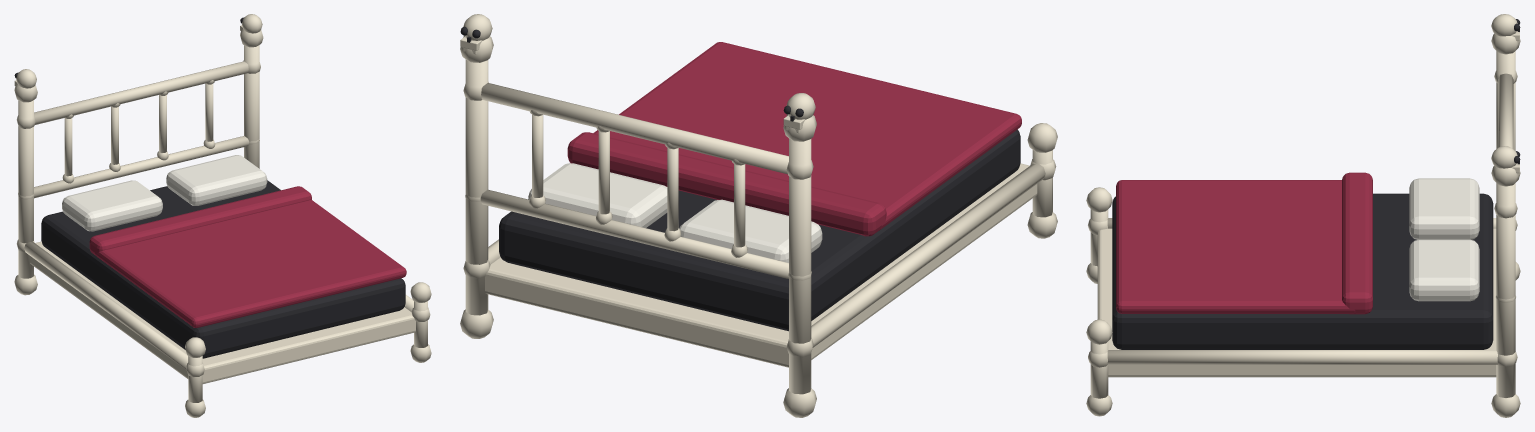
Rendered from bed_bone_frame.glb.
3 views of the same model, side by side, from view 1: azimuth 30°, elevation 25°; view 2: azimuth 150°, elevation 25°; view 3: azimuth 270°, elevation 25° (orthographic). The views are drawn at different scales.
Parts seen in each view (by area): view 1: GD_bed_bone_frame__m0, GD_bed_bone_frame__m3, GD_bed_bone_frame__m1, GD_bed_bone_frame__m2; view 2: GD_bed_bone_frame__m0, GD_bed_bone_frame__m3, GD_bed_bone_frame__m1, GD_bed_bone_frame__m2; view 3: GD_bed_bone_frame__m3, GD_bed_bone_frame__m0, GD_bed_bone_frame__m1, GD_bed_bone_frame__m2.
Boxes of the visible parts, <box> form: GD_bed_bone_frame__m0: <box>14,14,431,417</box>; GD_bed_bone_frame__m3: <box>89,186,406,327</box>; GD_bed_bone_frame__m1: <box>14,17,405,358</box>; GD_bed_bone_frame__m2: <box>62,155,267,231</box>; GD_bed_bone_frame__m0: <box>460,14,1057,417</box>; GD_bed_bone_frame__m3: <box>567,42,1021,236</box>; GD_bed_bone_frame__m1: <box>460,26,1020,331</box>; GD_bed_bone_frame__m2: <box>528,163,822,262</box>; GD_bed_bone_frame__m3: <box>1116,172,1372,314</box>; GD_bed_bone_frame__m0: <box>1086,14,1520,417</box>; GD_bed_bone_frame__m1: <box>1112,19,1520,349</box>; GD_bed_bone_frame__m2: <box>1409,178,1479,301</box>.
Bounding box in the file's own units: 1.75 × 1.52 × 2.22.
